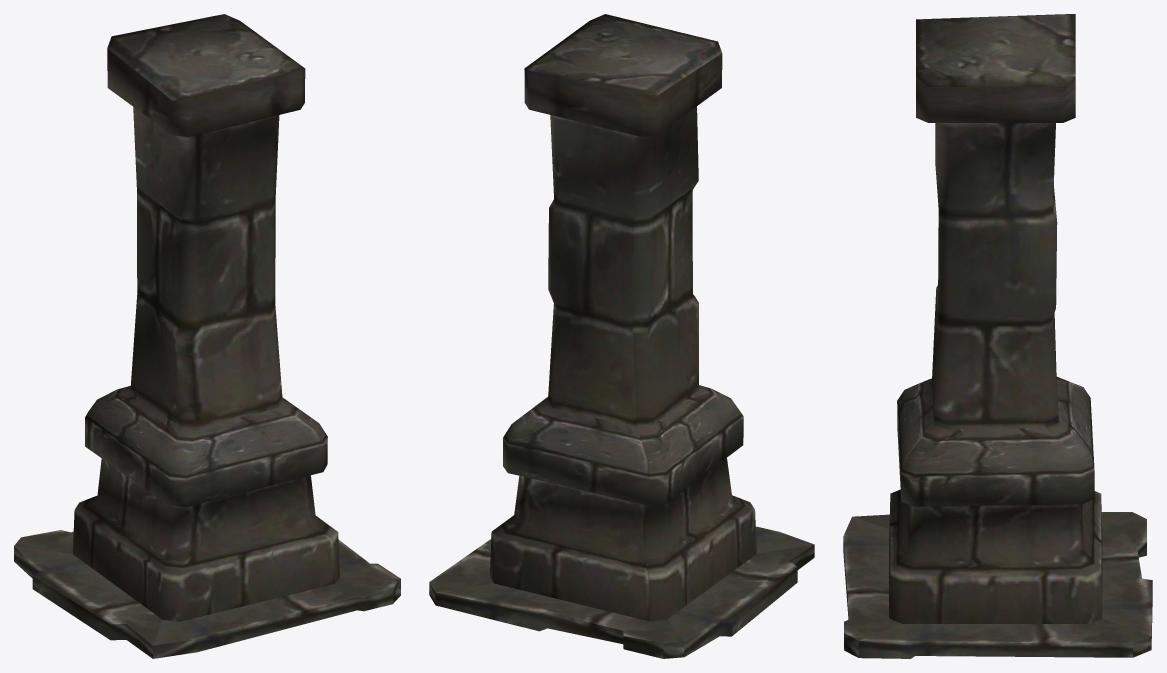
The model's file is h5_building_01.FBX.
3 views of the same model, side by side, from view 1: azimuth 30°, elevation 25°; view 2: azimuth 150°, elevation 25°; view 3: azimuth 270°, elevation 25° (orthographic). The views are drawn at different scales.
Visible parts, largest first — view 1: h5_building_01; view 2: h5_building_01; view 3: h5_building_01.
Boxes of the visible parts, box(x1,y1,x2,y2) form: h5_building_01: box(14, 14, 400, 658); h5_building_01: box(429, 14, 814, 658); h5_building_01: box(843, 14, 1152, 658).
Size of the model in its own units: 3.5 by 6.49 by 3.31.
